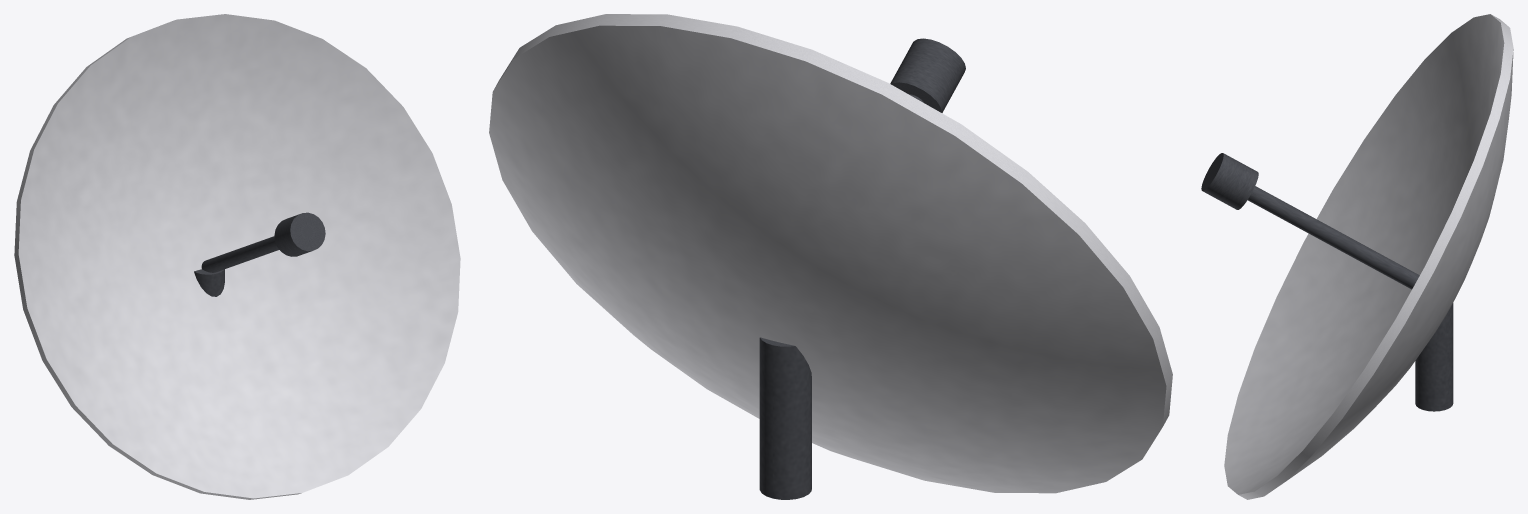
File: sat_antena.obj
The picture shows the model from 3 angles, left to right: view 1: azimuth 30°, elevation 25°; view 2: azimuth 150°, elevation 25°; view 3: azimuth 270°, elevation 25°; orthographic projection. The views are drawn at different scales.
Parts seen in each view (by area): view 1: sat_antena; view 2: sat_antena; view 3: sat_antena.
Boxes of the visible parts, bbox=[...] form: sat_antena: bbox=[14, 14, 460, 499]; sat_antena: bbox=[489, 14, 1172, 499]; sat_antena: bbox=[1201, 14, 1513, 499].
Bounding box in the file's own units: 2 × 1.74 × 1.15.
